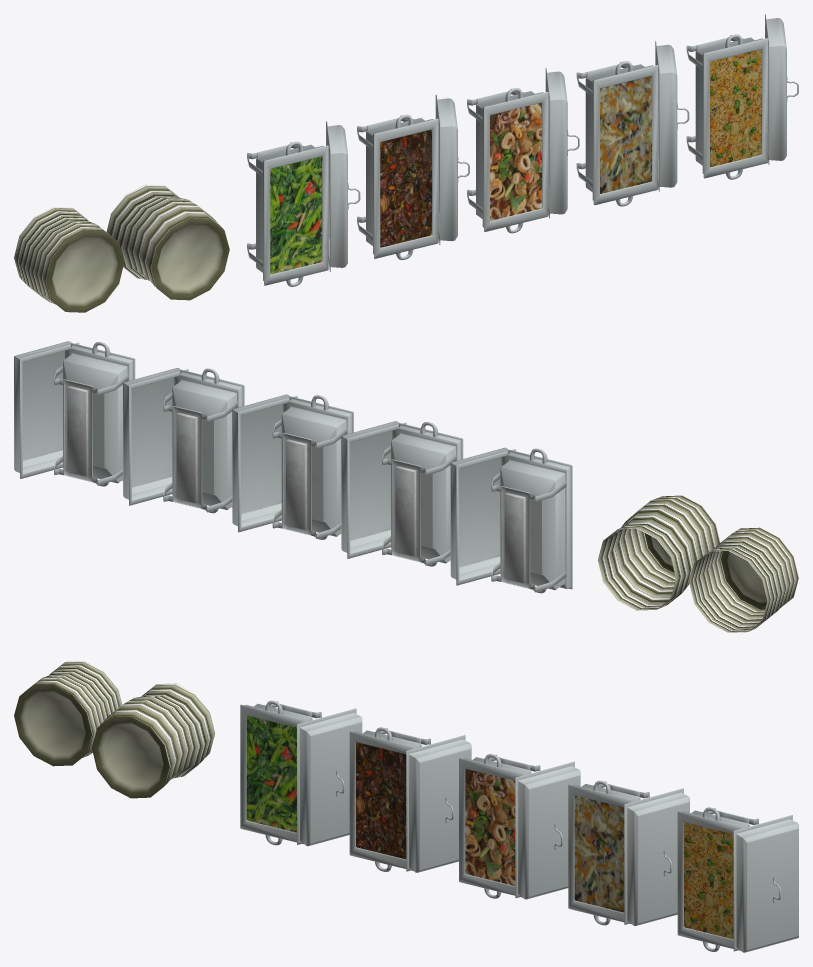
Rendered from buffet_food_warmers.obj.
The picture shows the model from 3 angles, top to bottom: view 1: azimuth 30°, elevation 25°; view 2: azimuth 150°, elevation 25°; view 3: azimuth 330°, elevation 25°; orthographic projection.
Parts seen in each view (by area): view 1: geometry_15, geometry_0, geometry_6, geometry_7, geometry_8, geometry_9, geometry_1, geometry_14, geometry_2, geometry_3, geometry_5, geometry_4 (+5 smaller); view 2: geometry_2, geometry_15, geometry_5, geometry_4, geometry_3, geometry_14, geometry_0, geometry_10, geometry_11, geometry_12, geometry_13, geometry_16; view 3: geometry_15, geometry_16, geometry_0, geometry_13, geometry_12, geometry_10, geometry_11, geometry_8, geometry_6, geometry_7, geometry_9, geometry_1 (+5 smaller).
Part boxes in pixels (bbox=[...]): geometry_15: bbox=[106, 184, 229, 300]; geometry_0: bbox=[14, 207, 124, 312]; geometry_6: bbox=[270, 156, 322, 274]; geometry_7: bbox=[380, 129, 431, 247]; geometry_8: bbox=[490, 103, 541, 220]; geometry_9: bbox=[600, 76, 651, 193]; geometry_1: bbox=[710, 49, 761, 167]; geometry_14: bbox=[686, 34, 768, 179]; geometry_2: bbox=[247, 141, 328, 286]; geometry_3: bbox=[357, 114, 438, 260]; geometry_5: bbox=[576, 61, 658, 206]; geometry_4: bbox=[467, 88, 548, 233]; geometry_2: bbox=[491, 448, 572, 593]; geometry_15: bbox=[598, 495, 720, 610]; geometry_5: bbox=[163, 368, 244, 513]; geometry_4: bbox=[272, 395, 353, 539]; geometry_3: bbox=[382, 422, 463, 566]; geometry_14: bbox=[54, 342, 135, 486]; geometry_0: bbox=[689, 527, 798, 632]; geometry_10: bbox=[450, 447, 515, 585]; geometry_11: bbox=[341, 421, 406, 558]; geometry_12: bbox=[232, 394, 297, 532]; geometry_13: bbox=[123, 368, 188, 505]; geometry_16: bbox=[14, 341, 79, 478]; geometry_15: bbox=[92, 683, 214, 798]; geometry_16: bbox=[733, 815, 798, 952]; geometry_0: bbox=[14, 661, 122, 766]; geometry_13: bbox=[624, 788, 689, 925]; geometry_12: bbox=[515, 761, 580, 899]; geometry_10: bbox=[297, 708, 362, 846]; geometry_11: bbox=[406, 735, 471, 872]; geometry_8: bbox=[465, 769, 515, 885]; geometry_6: bbox=[246, 715, 296, 832]; geometry_7: bbox=[356, 742, 406, 859]; geometry_9: bbox=[574, 795, 624, 912]; geometry_1: bbox=[684, 822, 733, 939].
Size of the model in its own units: 3.09 by 0.5598 by 0.318.
Materials: 7 (7 with a texture image).
